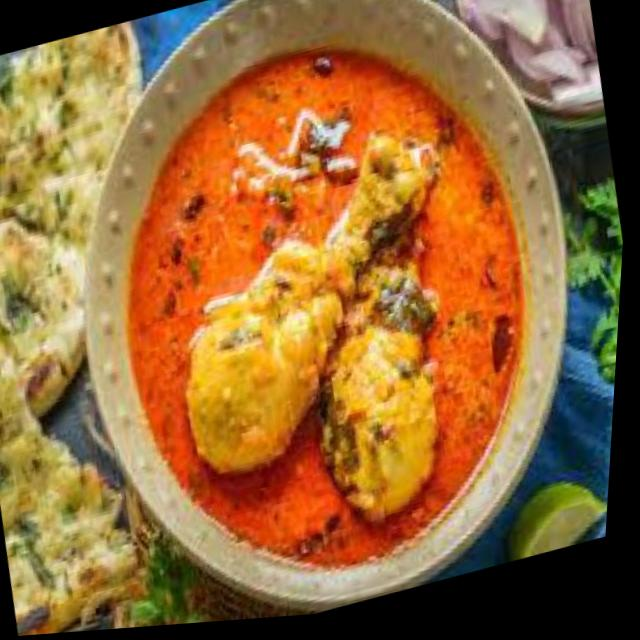CHICKEN CURRY: (123, 38, 523, 565)
